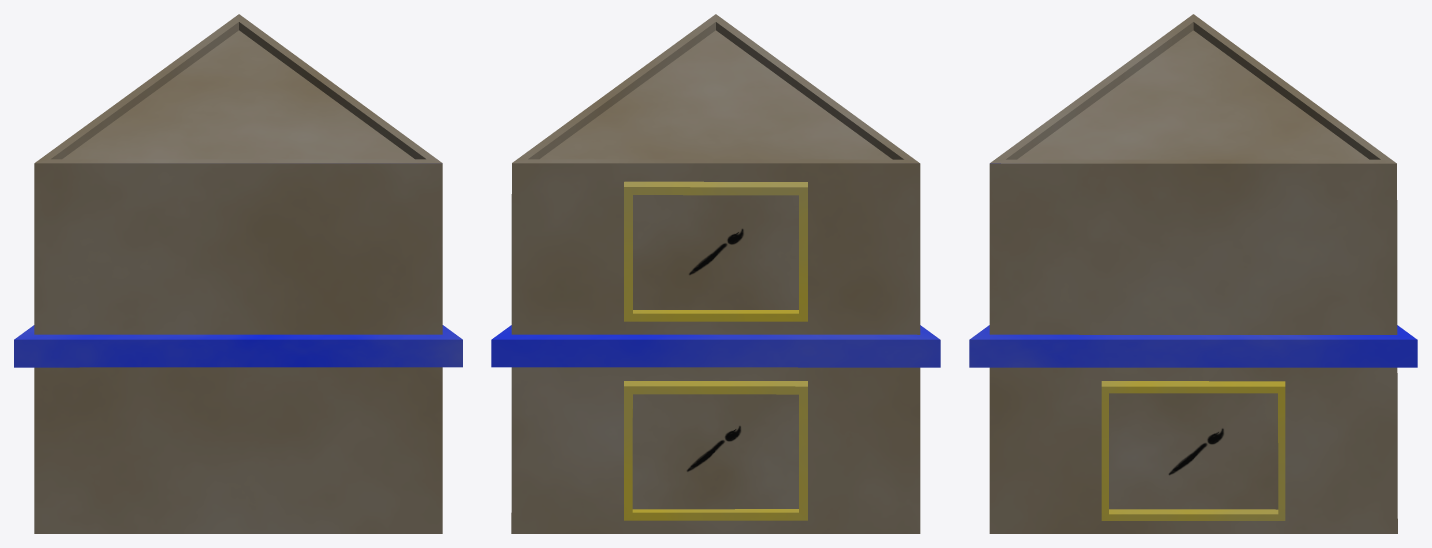
File: mdl_apa_EquilateralInput.gltf
The picture shows the model from 3 angles, left to right: view 1: azimuth 30°, elevation 25°; view 2: azimuth 150°, elevation 25°; view 3: azimuth 270°, elevation 25°; orthographic projection.
Parts seen in each view (by area): view 1: Cube; view 2: Cube; view 3: Cube.
Part boxes in pixels (box(x1,y1,x2,y2)): Cube: box(14, 14, 462, 533); Cube: box(491, 14, 940, 533); Cube: box(969, 14, 1417, 533).
Bounding box in the file's own units: 1.91 × 2 × 2.19.
Materials: 1 (1 with a texture image).
